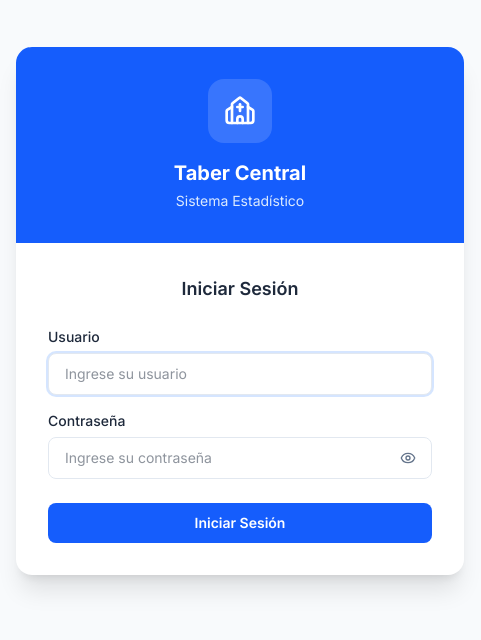
Test: Login Page › shows error on empty submit
What coordinates should you click on to do the following:
click the button "Iniciar Sesión"
I would click on:
 (240, 523)
Its box is [48,503,432,543].
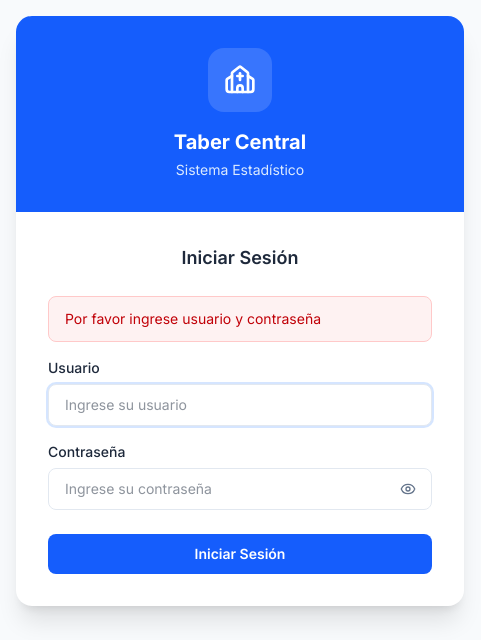
Expected: the text "Por favor ingrese usuario y contraseña" is shown, [48,296,432,342]
